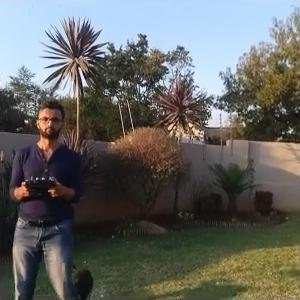follow: (1, 95, 90, 298)
null: (69, 262, 94, 298)
